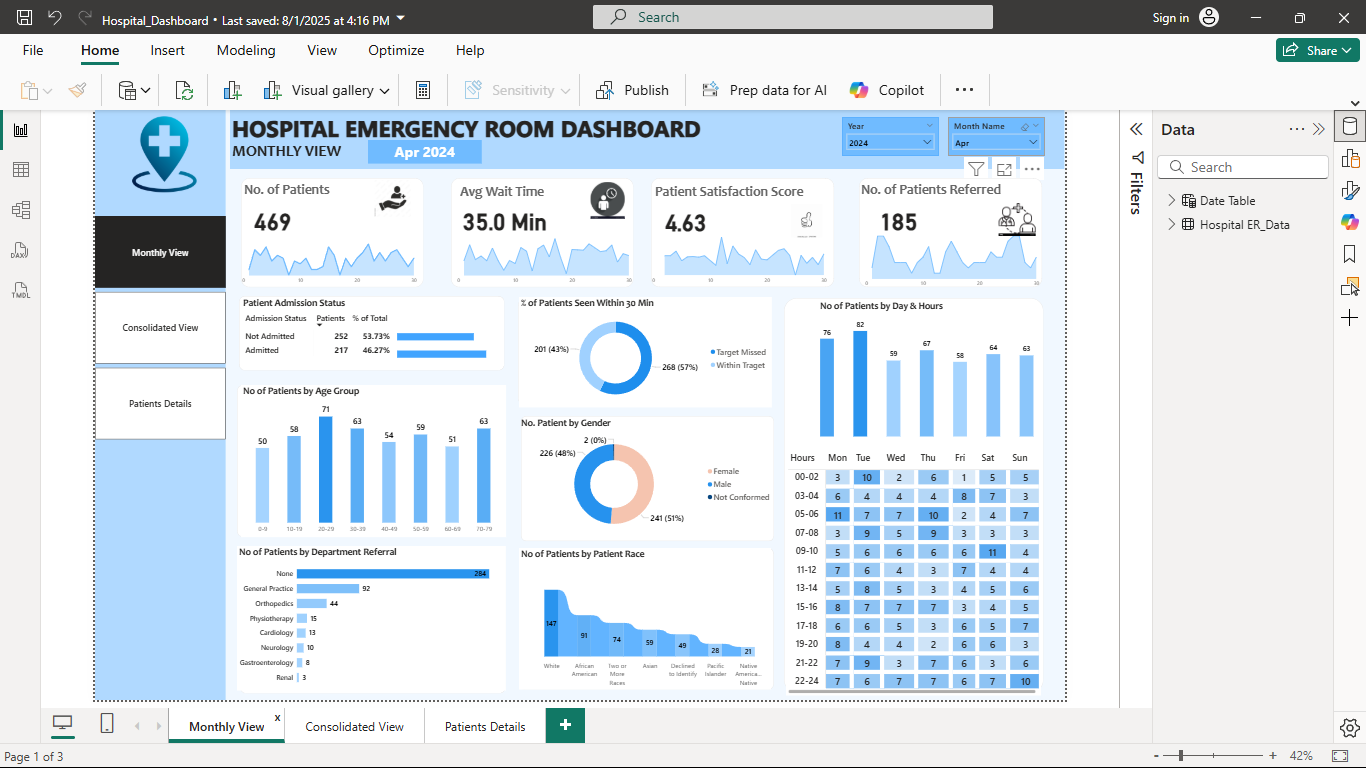

This screenshot's page, from the dashboard's own definition file:
{"tool":"powerbi","page":{"name":"Monthly View","canvas":[2300,1400],"ordinal":0},"visuals":[{"type":"shape","box":[345.3,160.5,433.3,259.5],"z":0},{"type":"shape","box":[0,0,310.1,1400.9],"z":1000},{"type":"shape","box":[320.5,0,1980,140],"z":2000},{"type":"textbox","box":[319.7,0,1201.4,108.6],"z":3000},{"type":"shape","box":[844.5,160.5,433.3,259.5],"z":4000},{"type":"shape","box":[1634.1,446.5,615.8,936.9],"z":5000},{"type":"textbox","box":[319.7,69,277.9,71],"z":6000},{"type":"card","fields":{"Values":["Hospital ER_Data.No of Patients"]},"box":[344.8,215.2,154.6,87.8],"z":7000},{"type":"slicer","fields":{"Values":["Date Table.Year"]},"box":[1771.8,16.7,230,91.9],"z":8000},{"type":"slicer","fields":{"Values":["Date Table.Month Name"]},"box":[2024.6,16.7,230,91.9],"z":9000},{"type":"textbox","box":[348.9,163,248.6,64.8],"z":10000},{"type":"areaChart","fields":{"Category":["Date Table.Date.Variation.Date Hierarchy.Day"],"Y":["Hospital ER_Data.No of Patients"]},"box":[336.4,277.9,434.6,144.2],"z":11000},{"type":"card","fields":{"Values":["Min(Date Table.Month & Year)"]},"box":[647.7,71,269.5,56.4],"z":12000},{"type":"shape","box":[1318.4,160.9,434.6,259.1],"z":13000},{"type":"card","fields":{"Values":["Hospital ER_Data.Satisfaction Score"]},"box":[1324.7,217.3,154.6,87.8],"z":14000},{"type":"textbox","box":[1324.7,169.2,390.7,64.8],"z":15000},{"type":"areaChart","fields":{"Category":["Date Table.Date.Variation.Date Hierarchy.Day"],"Y":["Hospital ER_Data.Satisfaction Score"]},"box":[1310.1,277.9,434.6,144.2],"z":16000},{"type":"shape","box":[1813.6,160.9,434.6,259.1],"z":17000},{"type":"card","fields":{"Values":["Hospital ER_Data.No of Patient Referred"]},"box":[1830.3,215.2,154.6,87.8],"z":18000},{"type":"textbox","box":[1813.6,163,380.3,64.8],"z":19000},{"type":"areaChart","fields":{"Category":["Date Table.Date.Variation.Date Hierarchy.Day"],"Y":["Avg(Hospital ER_Data.Patient Waittime)"]},"box":[846.2,277.9,434.6,144.2],"z":20000},{"type":"areaChart","fields":{"Category":["Date Table.Date.Variation.Date Hierarchy.Day"],"Y":["Hospital ER_Data.No of Patient Referred"]},"box":[1814.4,283.7,433.3,145.2],"z":21000},{"type":"card","fields":{"Values":["Hospital ER_Data.Avg wait Time"]},"box":[846.2,215.2,250.7,87.8],"z":22000},{"type":"shape","box":[342.7,440.9,630,177],"z":23000},{"type":"textbox","box":[860.8,169.2,248.6,64.8],"z":24000},{"type":"pivotTable","title":"Patient Admission Status","fields":{"Rows":["Hospital ER_Data.Admission Status"],"Values":["Hospital ER_Data.No of Patients1","Hospital ER_Data.No of Patients"]},"box":[345.3,444.3,657.6,173.7],"z":25000},{"type":"barChart","fields":{"Category":["Hospital ER_Data.Admission Status"],"Y":["Hospital ER_Data.No of Patients"]},"box":[712.6,497,261.7,121],"z":26000},{"type":"shape","box":[336.5,653.2,629,360.7],"z":27000},{"type":"clusteredColumnChart","fields":{"Category":["Hospital ER_Data.Age Group"],"Y":["Hospital ER_Data.No of Patients"]},"box":[345.3,653.2,629,360.7],"z":28000},{"type":"shape","box":[343.1,1033.7,630,350],"z":29000},{"type":"clusteredBarChart","fields":{"Category":["Hospital ER_Data.Department Referral"],"Y":["Hospital ER_Data.No of Patients"]},"box":[336.5,1033.7,637.8,343.1],"z":30000},{"type":"shape","box":[1002.9,444.3,600.4,259.5],"z":31000},{"type":"donutChart","title":"% of Patients Seen Within 30 Min","fields":{"Category":["Hospital ER_Data.wait Time"],"Y":["Hospital ER_Data.No of Patients"]},"box":[1005.1,444.3,600.4,261.7],"z":32000},{"type":"shape","box":[1011.7,725.8,600.4,296.9],"z":33000},{"type":"donutChart","title":"No. Patient by Gender","fields":{"Y":["Hospital ER_Data.No of Patients"],"Category":["Hospital ER_Data.Patient Gender"]},"box":[1007.3,728,609.2,288.1],"z":34000},{"type":"shape","box":[1005.1,1040.3,604.8,336.5],"z":35000},{"type":"ribbonChart","fields":{"Category":["Hospital ER_Data.Patient Race"],"Y":["Hospital ER_Data.No of Patients"]},"box":[1007.3,1040.3,598.2,336.5],"z":36000},{"type":"pivotTable","fields":{"Rows":["Hospital ER_Data.Waittime_interval"],"Columns":["Date Table.Day Name"],"Values":["Hospital ER_Data.No of Patients"]},"box":[1640.7,804.9,605,585],"z":37000},{"type":"columnChart","title":"No of Patients by Day & Hours","fields":{"Y":["Hospital ER_Data.No of Patients"],"Category":["Date Table.Day Name"]},"box":[1715.4,450.9,519,329.9],"z":38000},{"type":"image","box":[648.8,160.5,116.6,96.8],"z":39000},{"type":"image","box":[2126.7,215.5,123.2,88],"z":40000},{"type":"image","box":[1156.8,164.9,116.6,96.8],"z":41000},{"type":"image","box":[1631.8,218.4,112.4,89.9],"z":42000},{"type":"image","box":[33,8.8,263.9,191.3],"z":43000},{"type":"pageNavigator","box":[0,250.7,310.1,530],"z":44000}]}

Visuals, with their boxes on the page's 2300x1400 design canvas (x1, y1, x2, y2). These are canvas units, not pixel positions in the 1366x768 screenshot, which may show the page scaled, cropped or inside an application window:
shape: (345, 160, 779, 420)
shape: (0, 0, 310, 1401)
shape: (320, 0, 2300, 140)
textbox: (320, 0, 1521, 109)
shape: (844, 160, 1278, 420)
shape: (1634, 446, 2250, 1383)
textbox: (320, 69, 598, 140)
card - Hospital ER_Data.No of Patients: (345, 215, 499, 303)
slicer - Date Table.Year: (1772, 17, 2002, 109)
slicer - Date Table.Month Name: (2025, 17, 2255, 109)
textbox: (349, 163, 598, 228)
areaChart - Date Table.Date.Variation.Date Hierarchy.Day x Hospital ER_Data.No of Patients: (336, 278, 771, 422)
card - Min(Date Table.Month & Year): (648, 71, 917, 127)
shape: (1318, 161, 1753, 420)
card - Hospital ER_Data.Satisfaction Score: (1325, 217, 1479, 305)
textbox: (1325, 169, 1715, 234)
areaChart - Date Table.Date.Variation.Date Hierarchy.Day x Hospital ER_Data.Satisfaction Score: (1310, 278, 1745, 422)
shape: (1814, 161, 2248, 420)
card - Hospital ER_Data.No of Patient Referred: (1830, 215, 1985, 303)
textbox: (1814, 163, 2194, 228)
areaChart - Date Table.Date.Variation.Date Hierarchy.Day x Avg(Hospital ER_Data.Patient Waittime): (846, 278, 1281, 422)
areaChart - Date Table.Date.Variation.Date Hierarchy.Day x Hospital ER_Data.No of Patient Referred: (1814, 284, 2248, 429)
card - Hospital ER_Data.Avg wait Time: (846, 215, 1097, 303)
shape: (343, 441, 973, 618)
textbox: (861, 169, 1109, 234)
"Patient Admission Status" pivotTable: (345, 444, 1003, 618)
barChart - Hospital ER_Data.Admission Status x Hospital ER_Data.No of Patients: (713, 497, 974, 618)
shape: (336, 653, 966, 1014)
clusteredColumnChart - Hospital ER_Data.Age Group x Hospital ER_Data.No of Patients: (345, 653, 974, 1014)
shape: (343, 1034, 973, 1384)
clusteredBarChart - Hospital ER_Data.Department Referral x Hospital ER_Data.No of Patients: (336, 1034, 974, 1377)
shape: (1003, 444, 1603, 704)
"% of Patients Seen Within 30 Min" donutChart: (1005, 444, 1606, 706)
shape: (1012, 726, 1612, 1023)
"No. Patient by Gender" donutChart: (1007, 728, 1616, 1016)
shape: (1005, 1040, 1610, 1377)
ribbonChart - Hospital ER_Data.Patient Race x Hospital ER_Data.No of Patients: (1007, 1040, 1606, 1377)
pivotTable - Hospital ER_Data.Waittime_interval x Date Table.Day Name: (1641, 805, 2246, 1390)
"No of Patients by Day & Hours" columnChart: (1715, 451, 2234, 781)
image: (649, 160, 765, 257)
image: (2127, 216, 2250, 304)
image: (1157, 165, 1273, 262)
image: (1632, 218, 1744, 308)
image: (33, 9, 297, 200)
pageNavigator: (0, 251, 310, 781)
